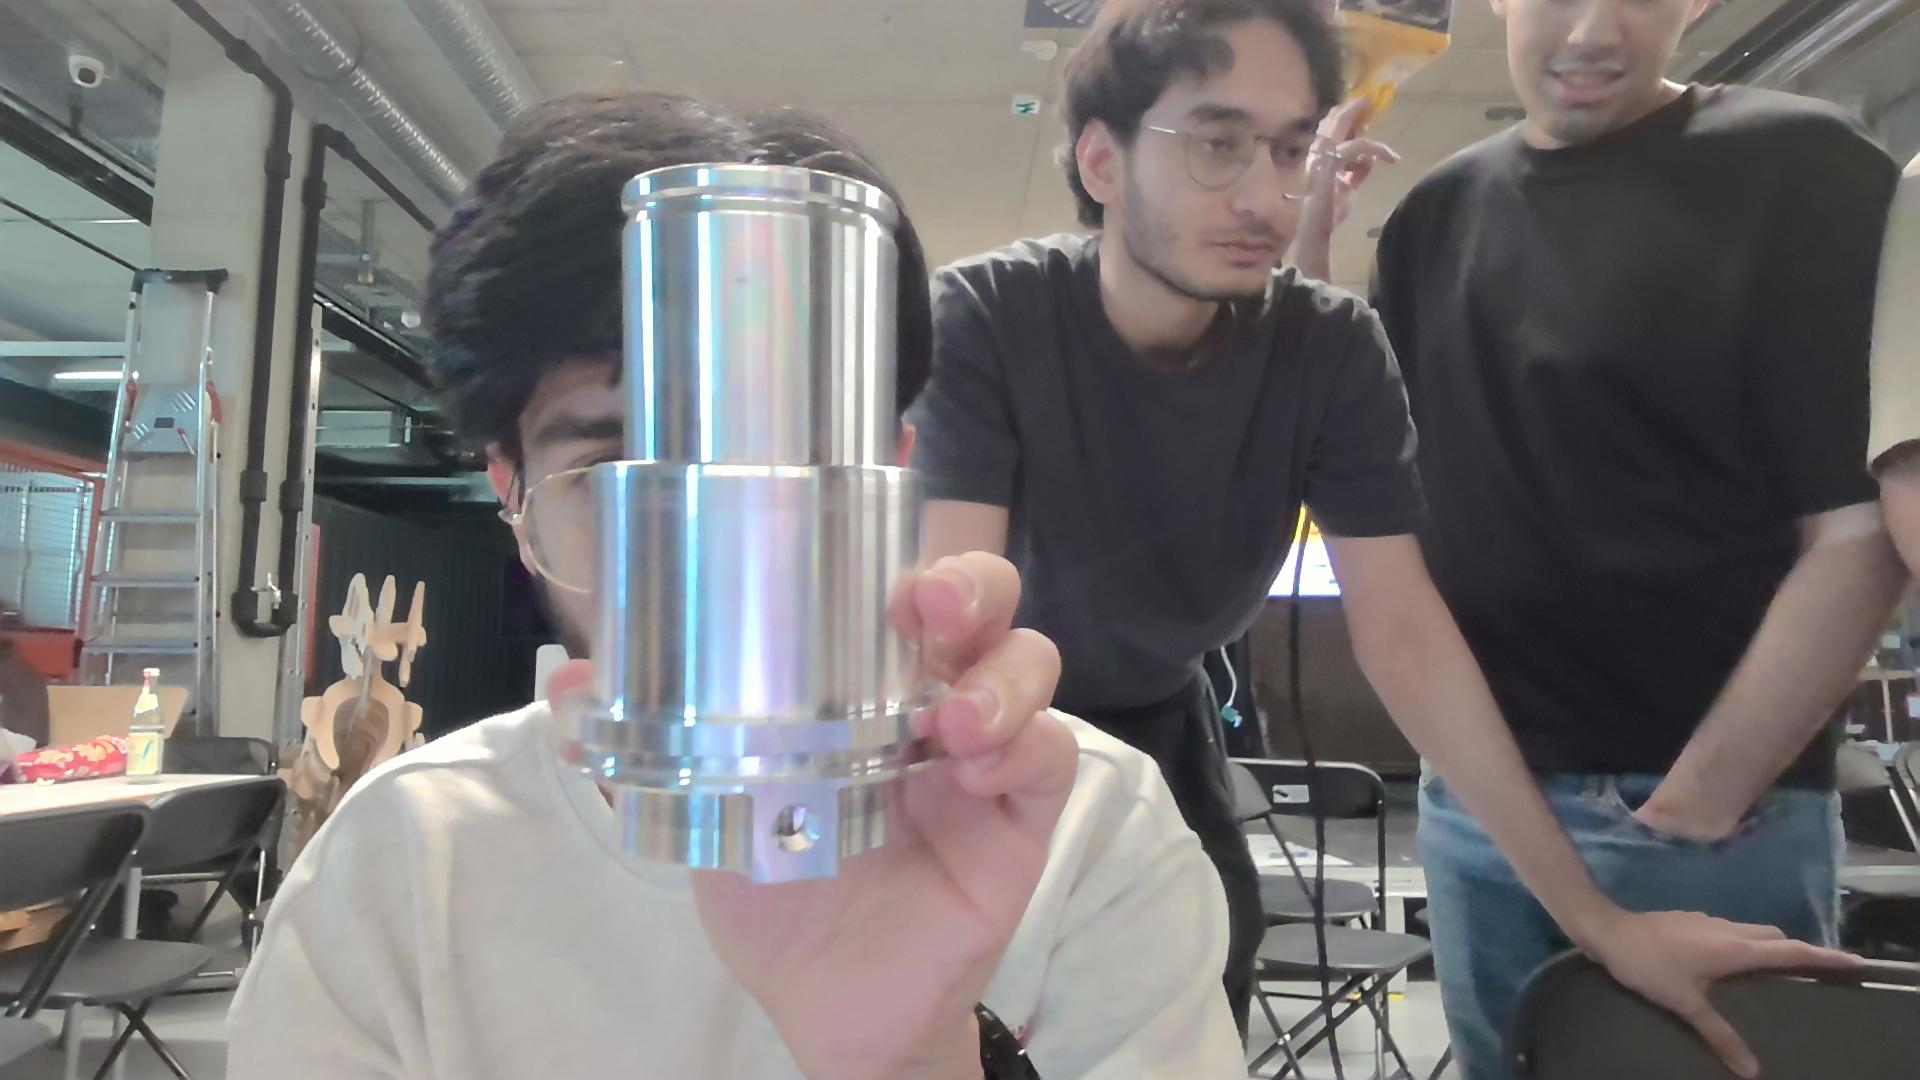objects: (562, 156, 964, 893)
